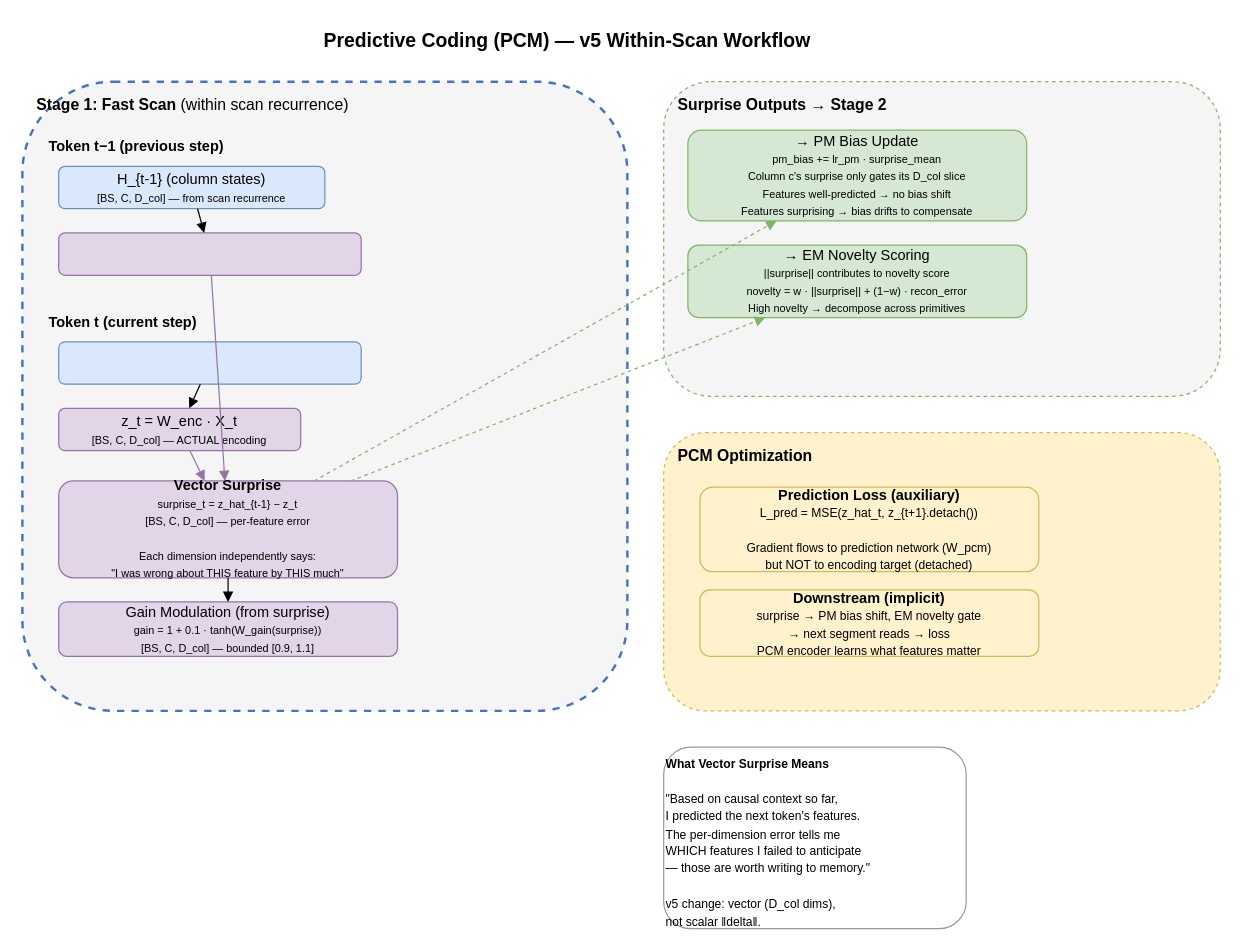
Some shapes in this 1241 by 950 pixel diagram are drawn without their labels. The shapes that lost their labels are listed below. From the top down, each one's centre as x and y in pixels, then its label:
(209,253): z_hat_{t-1} = W_pcm · H_{t-1} [BS, C, D_col] — PREDICTION of next token
(209,362): X_t (token embedding slice) [BS, C, D_col] — column c gets its D_col slice
